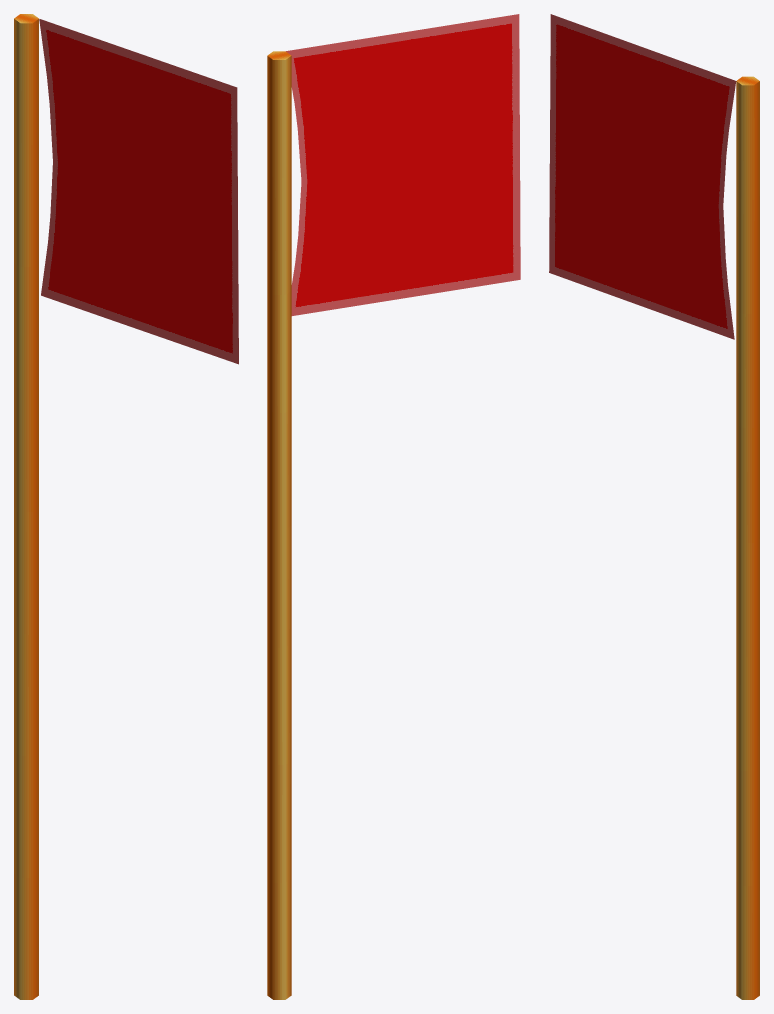
The model's file is glf_pin1__glf_pin1.glb.
3 views of the same model, side by side, from view 1: azimuth 90°, elevation 25°; view 2: azimuth 150°, elevation 25°; view 3: azimuth 270°, elevation 25° (orthographic). The views are drawn at different scales.
Parts seen in each view (by area): view 1: polygon1, polygon0, polygon2; view 2: polygon1, polygon0, polygon2; view 3: polygon1, polygon0, polygon2.
Part boxes in pixels (x1,y1,x2,y2): polygon1: (39, 19, 238, 364); polygon0: (14, 14, 38, 999); polygon2: (41, 20, 238, 362); polygon1: (286, 14, 520, 315); polygon0: (267, 51, 291, 999); polygon2: (288, 15, 520, 314); polygon1: (549, 14, 736, 339); polygon0: (736, 76, 759, 999); polygon2: (549, 15, 735, 338).
Size of the model in its own units: 4.95 by 30.04 by 6.26.
2 materials, 2 textured.
